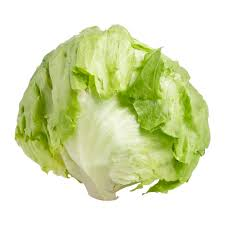lettuce: (14, 34, 219, 190)
